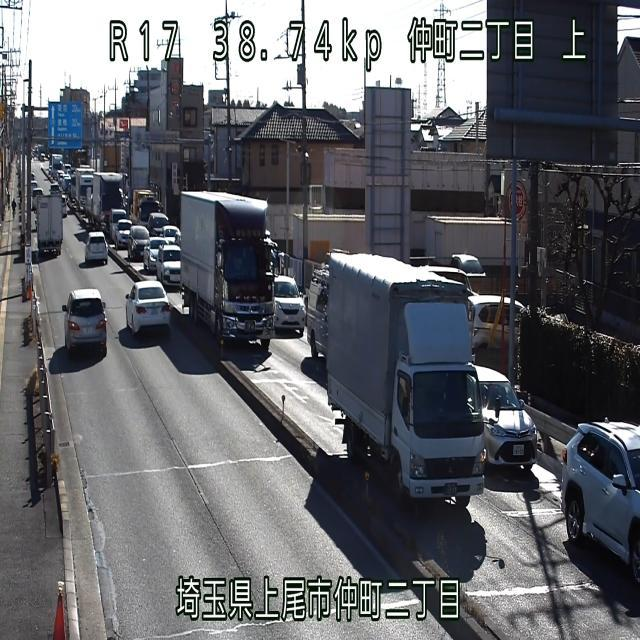16-Wheelers: (322, 247, 488, 509), (179, 189, 278, 349)
Ad-signs: (46, 100, 83, 149)
Car: (559, 418, 639, 584), (469, 364, 538, 471), (60, 287, 107, 356)
